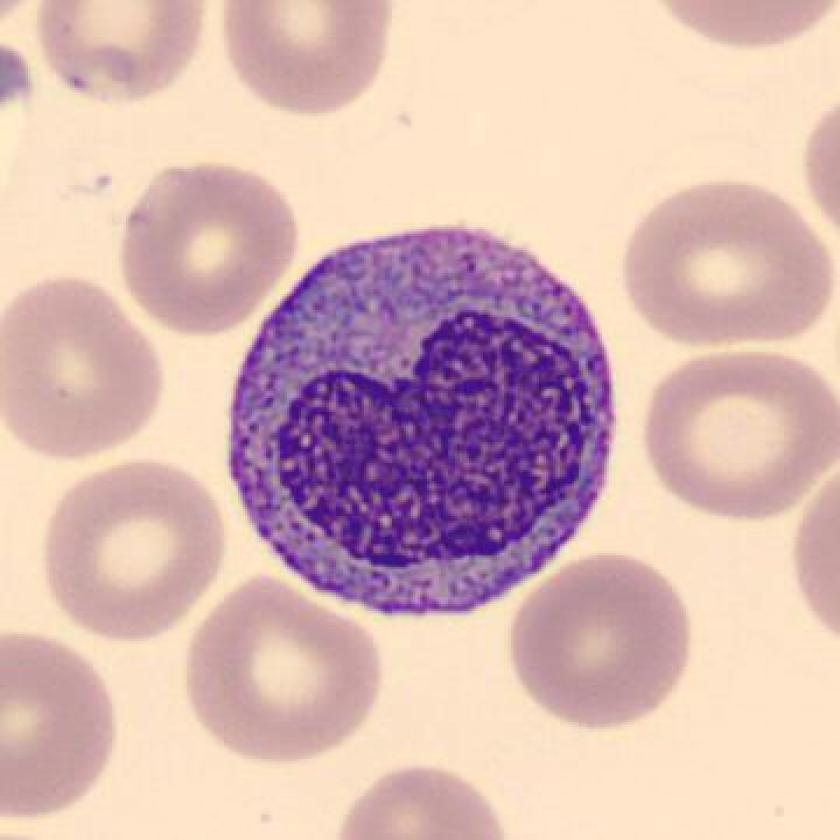monocyte: (207, 195, 641, 642)
